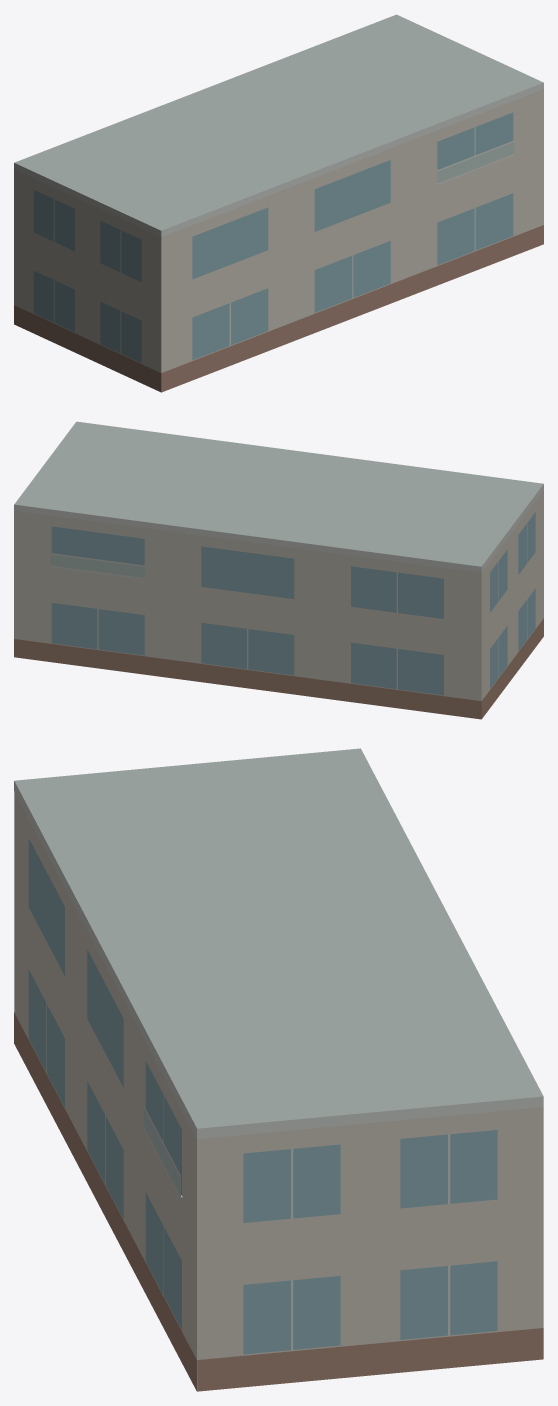
File: survey-upis-33001450.glb
The picture shows the model from 3 angles, top to bottom: view 1: azimuth 30°, elevation 25°; view 2: azimuth 150°, elevation 25°; view 3: azimuth 270°, elevation 25°; orthographic projection. The views are drawn at different scales.
Visible parts, largest first — view 1: survey-upis-33001450.tmp; view 2: survey-upis-33001450.tmp; view 3: survey-upis-33001450.tmp.
Boxes of the visible parts, box(x1,y1,x2,y2) form: survey-upis-33001450.tmp: box(14, 14, 543, 392); survey-upis-33001450.tmp: box(14, 421, 543, 719); survey-upis-33001450.tmp: box(14, 748, 543, 1391).
Size of the model in its own units: 18.94 by 6.1 by 11.15.
